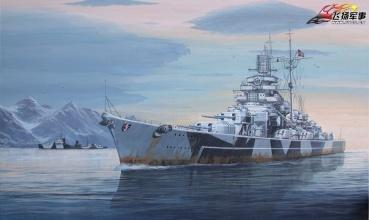warship: (98, 32, 350, 168)
